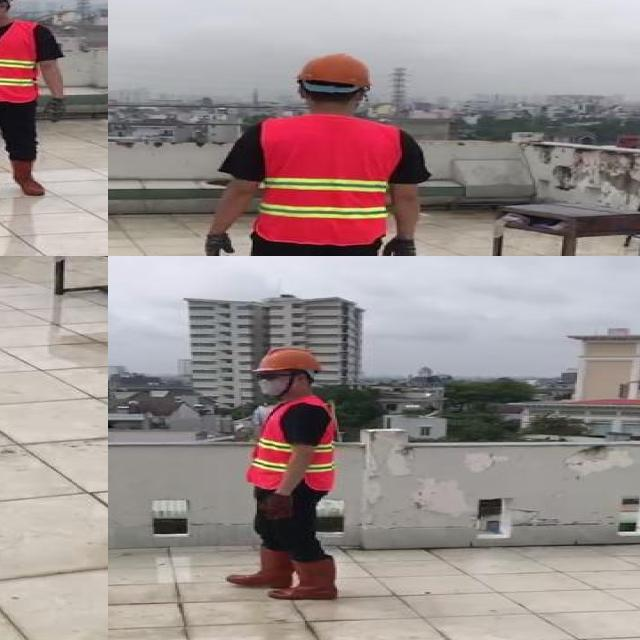boots: (272, 559, 342, 600), (228, 549, 294, 587), (10, 157, 45, 196)
face_mask: (255, 370, 291, 396)
glasses: (252, 371, 284, 382)
hand_glove: (259, 493, 294, 522), (204, 233, 231, 256), (386, 238, 420, 256), (44, 96, 66, 123)
head_helmet: (293, 49, 376, 86), (252, 348, 322, 372)
person: (196, 49, 434, 256), (220, 344, 351, 604), (0, 0, 71, 210)
vest: (260, 116, 400, 247), (250, 403, 340, 490), (0, 23, 39, 101)
